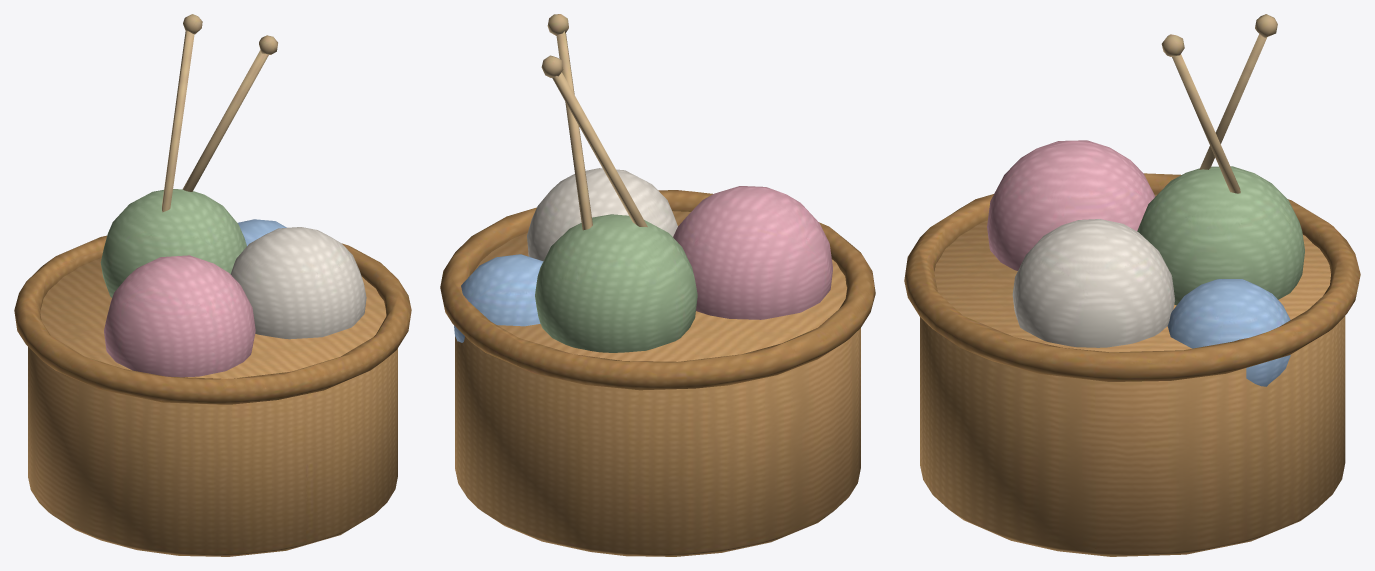
Rendered from keepsake-yarn-basket.glb.
3 views of the same model, side by side, from view 1: azimuth 30°, elevation 25°; view 2: azimuth 150°, elevation 25°; view 3: azimuth 270°, elevation 25° (orthographic). The views are drawn at different scales.
Parts seen in each view (by area): view 1: keepsake-yarn-basket; view 2: keepsake-yarn-basket; view 3: keepsake-yarn-basket.
Part boxes in pixels (x1=…): keepsake-yarn-basket: x1=14, y1=14, x2=411, y2=556; keepsake-yarn-basket: x1=440, y1=14, x2=875, y2=556; keepsake-yarn-basket: x1=904, y1=14, x2=1360, y2=556.
Bounding box in the file's own units: 0.25 × 0.2878 × 0.25.
Materials: 1 (1 with a texture image).
